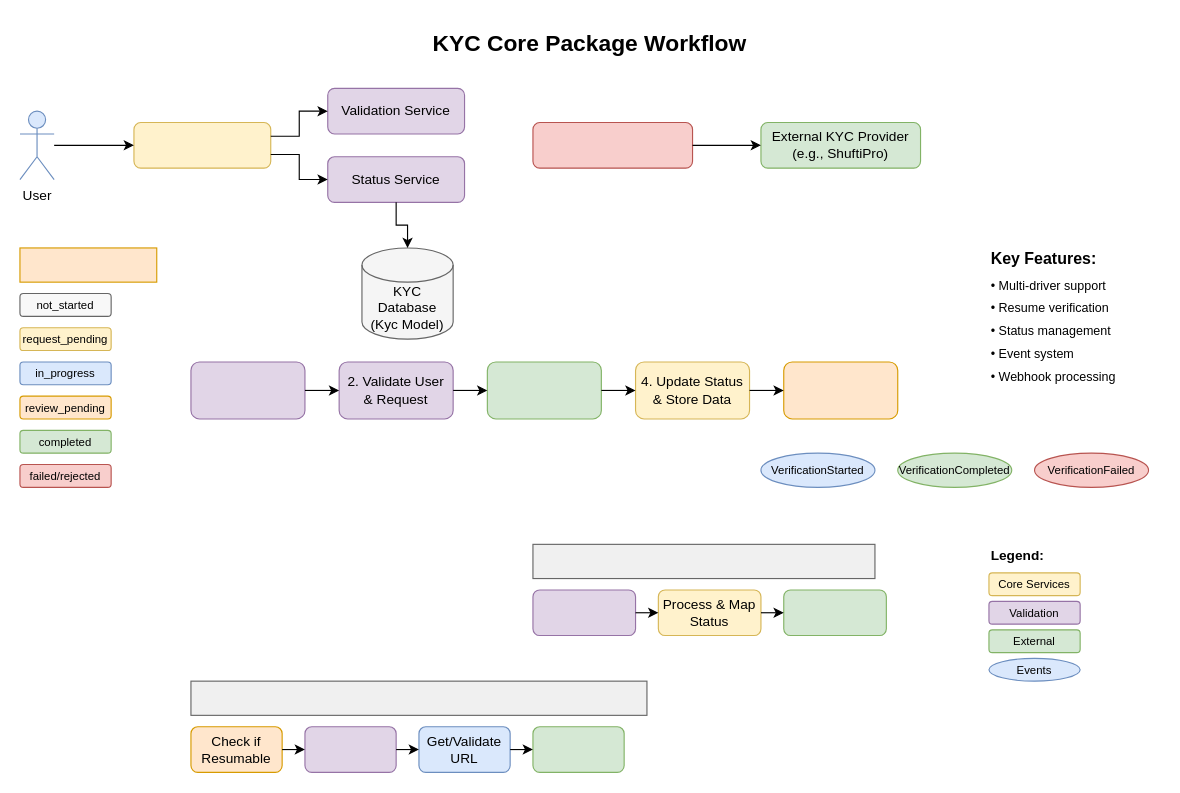
This 1180x793 diagram has some shape labels left out. The shapes that lost their labels are listed below. From the top down, each one's box as (x1, y1, x2, y2) in pixels, then its label:
(133, 121, 271, 168): KYC Manager
(532, 121, 693, 168): KYC Driver Interface
(19, 247, 157, 282): KYC Status Enum
(190, 361, 305, 419): 1. Create/Resume Verification
(486, 361, 601, 419): 3. Call External Provider
(783, 361, 898, 419): 5. Fire Events
(532, 543, 875, 579): Webhook Processing
(532, 589, 636, 636): Receive Webhook
(783, 589, 886, 636): Update Database & Fire Events
(190, 680, 647, 715): Resume Verification Flow
(304, 726, 396, 772): Retrieve Latest Status
(532, 726, 624, 772): Return Resume Response
